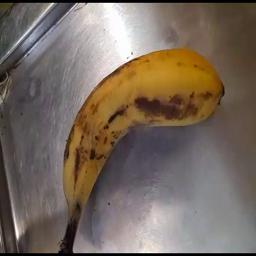Banana Semirotten: (55, 33, 244, 159)
